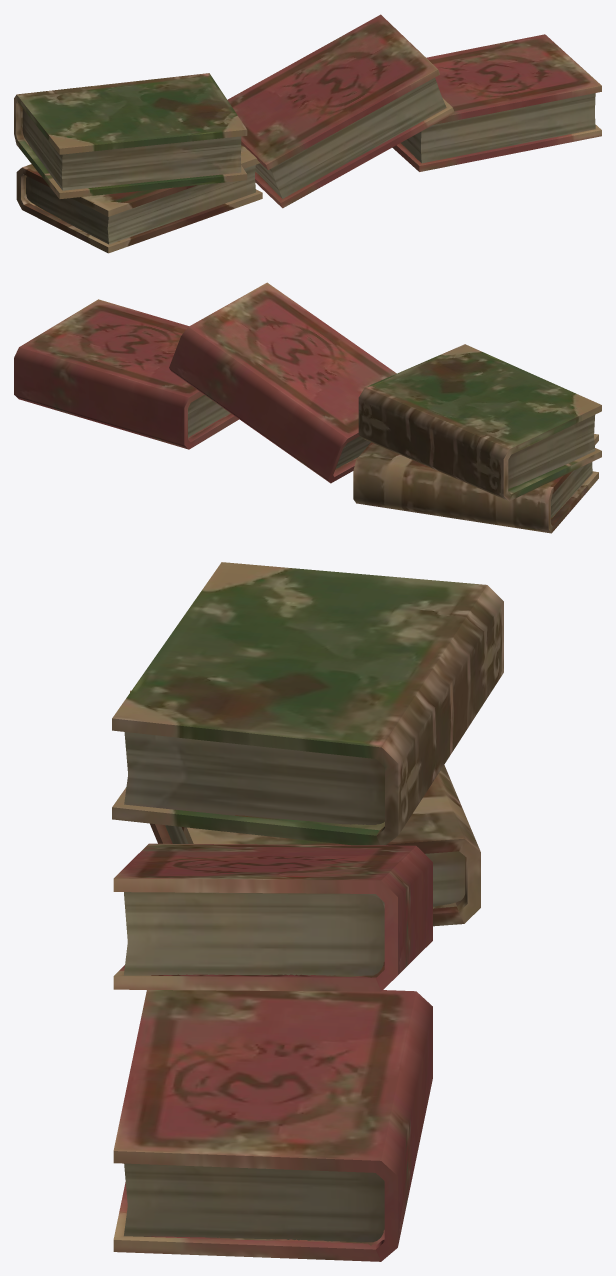
3 renders of one model, top to bottom at view 1: azimuth 30°, elevation 25°; view 2: azimuth 150°, elevation 25°; view 3: azimuth 270°, elevation 25°, orthographic. The views are drawn at different scales.
Parts seen in each view (by area): view 1: SM_DR_BookStack_05_LOD0; view 2: SM_DR_BookStack_05_LOD0; view 3: SM_DR_BookStack_05_LOD0.
Boxes of the visible parts, x1,y1,x2,y2 form: SM_DR_BookStack_05_LOD0: (14,14,601,253); SM_DR_BookStack_05_LOD0: (14,282,601,533); SM_DR_BookStack_05_LOD0: (112,562,503,1261).
Size of the model in its own units: 1.15 by 0.2373 by 0.3718.
1 material, 1 textured.
